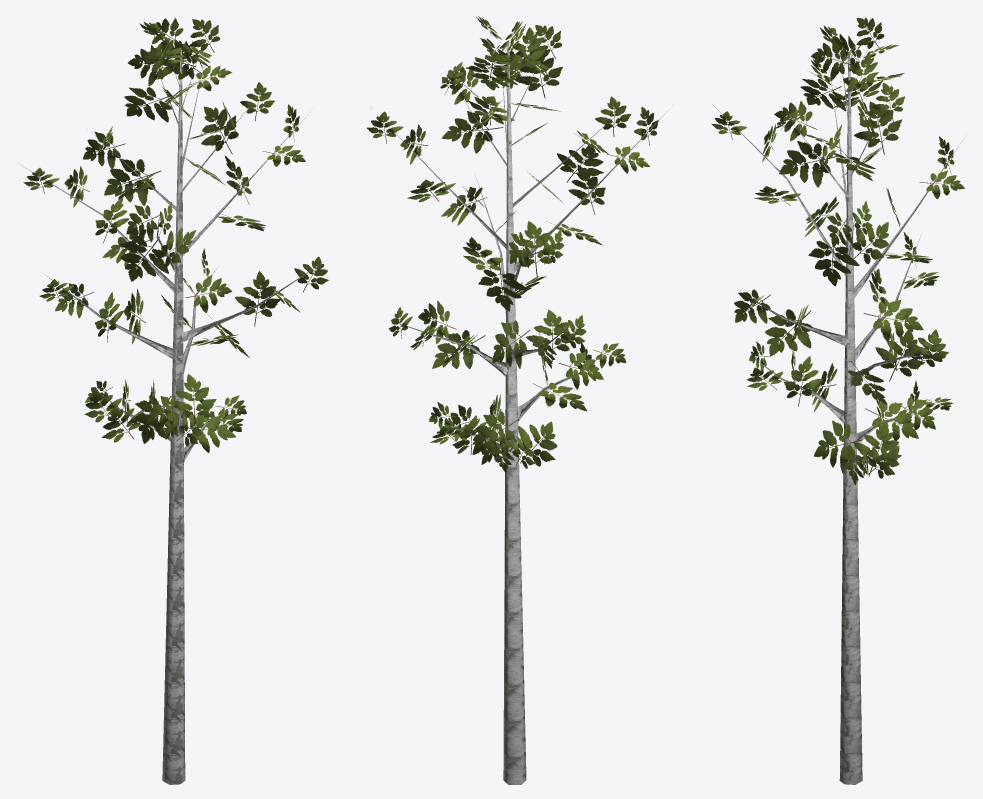
Rendered from birch_tree.fbx.
3 renders of one model, left to right at view 1: azimuth 30°, elevation 25°; view 2: azimuth 150°, elevation 25°; view 3: azimuth 270°, elevation 25°, orthographic.
Parts seen in each view (by area): view 1: Tree_1, Tree_0; view 2: Tree_1, Tree_0; view 3: Tree_1, Tree_0.
Part boxes in pixels (x1,y1,x2,y2): Tree_1: (23, 18, 328, 452); Tree_0: (21, 49, 324, 784); Tree_1: (367, 16, 658, 472); Tree_0: (370, 34, 673, 784); Tree_1: (711, 18, 964, 485); Tree_0: (713, 54, 964, 784).
Size of the model in its own units: 145 by 416 by 131.
